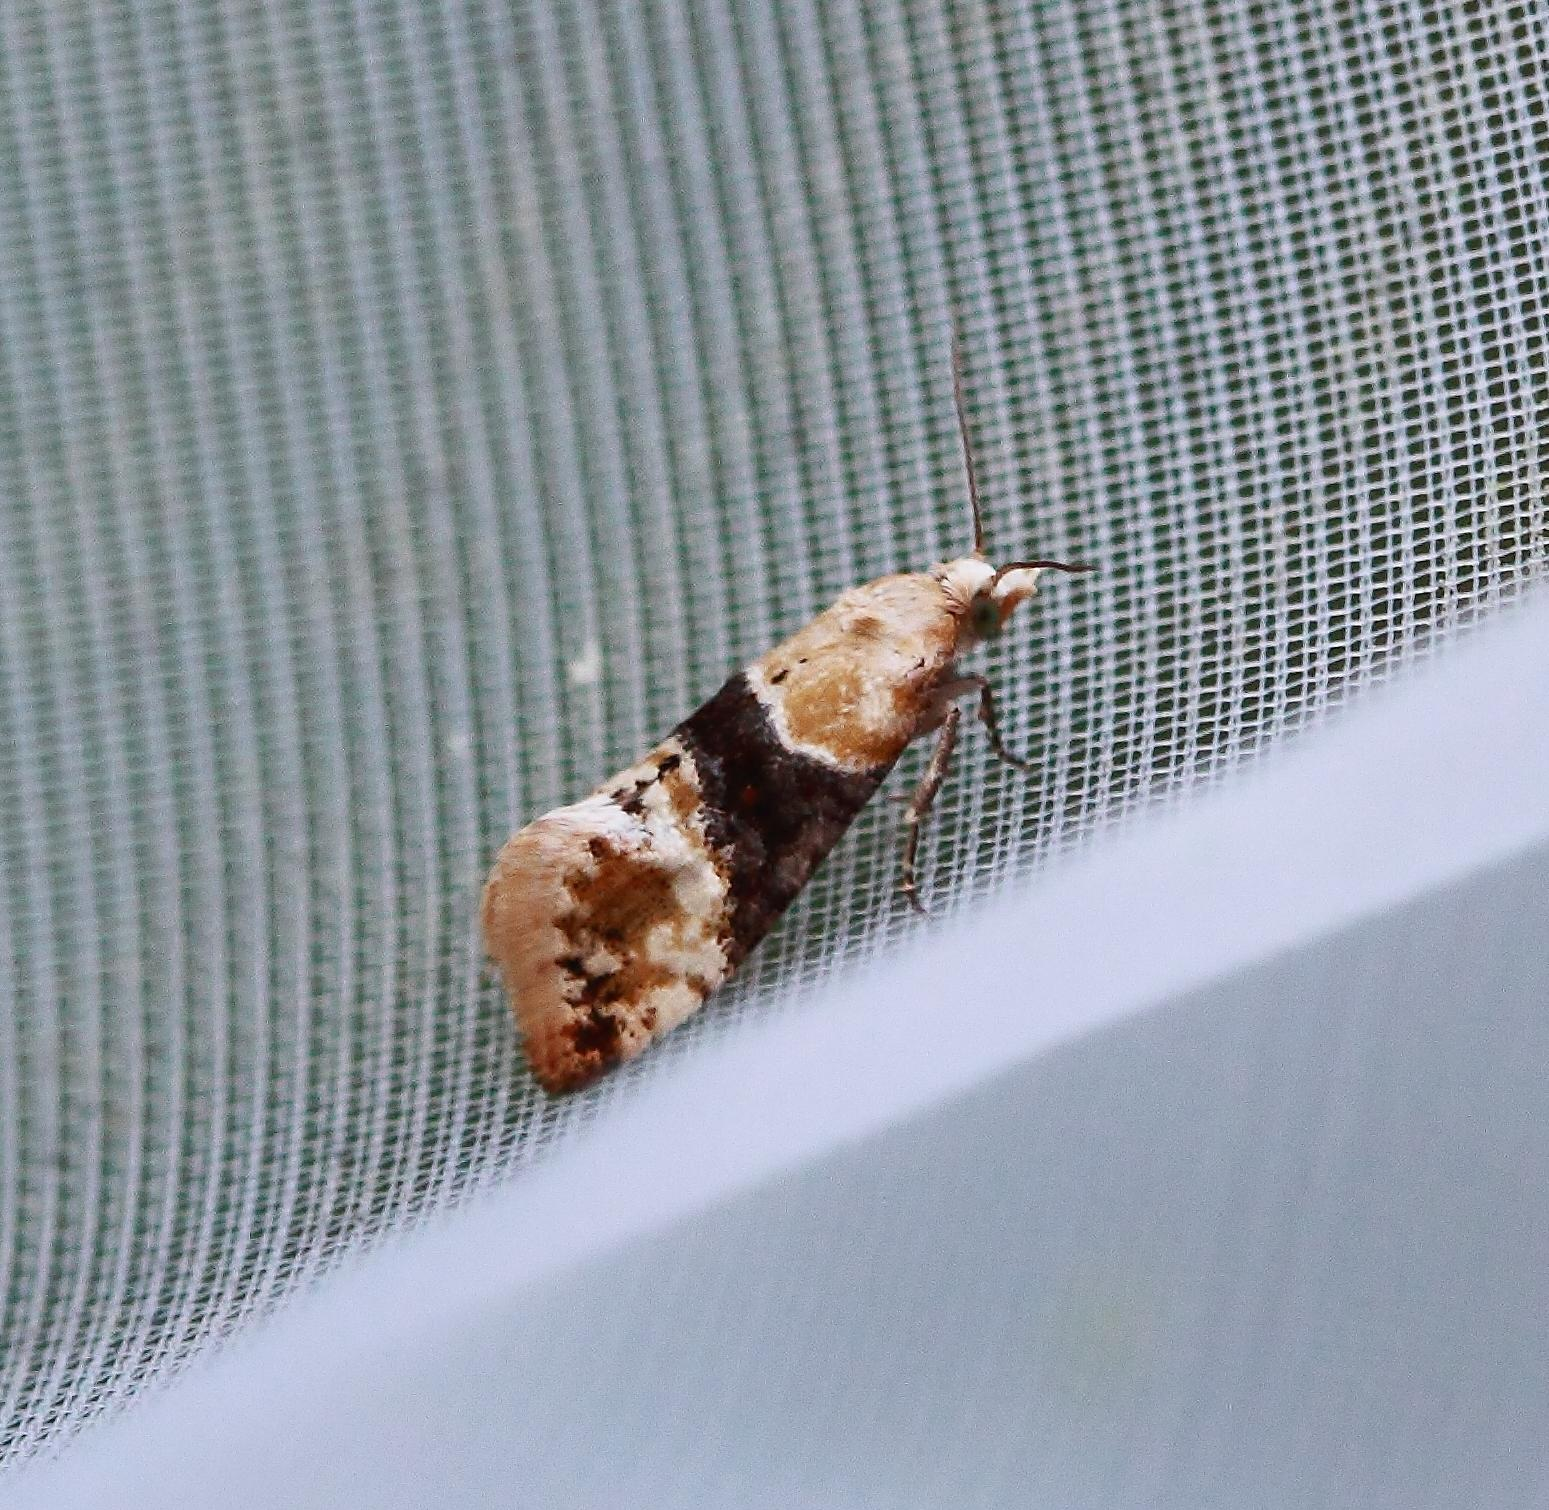Eupoecilia Ambiguella: (474, 324, 1095, 1101)
